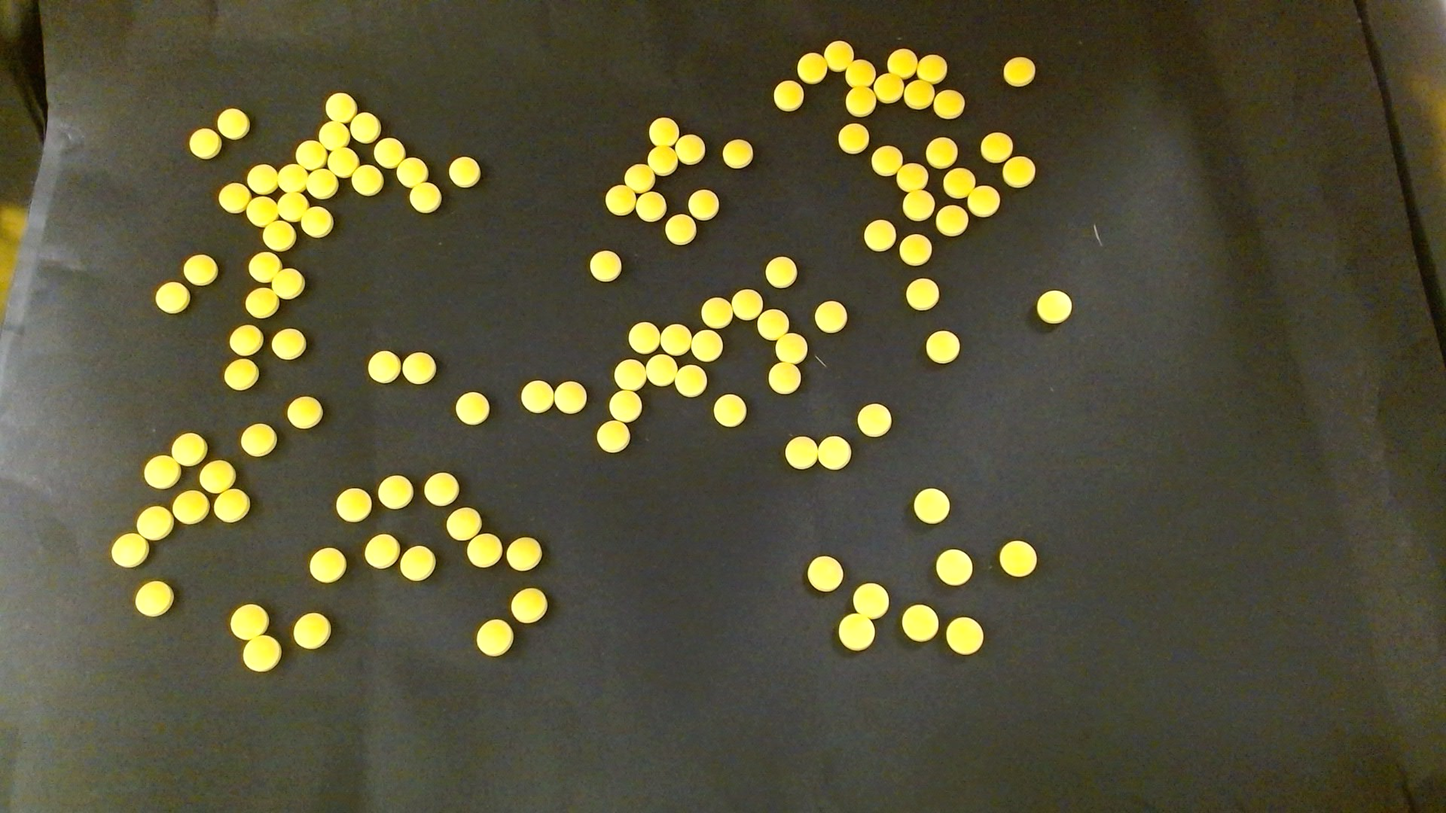Circle: (946, 615, 985, 656), (134, 580, 174, 617), (837, 614, 875, 651), (293, 612, 331, 649), (998, 540, 1036, 577), (901, 604, 938, 641), (230, 603, 268, 639), (475, 620, 512, 656), (243, 635, 280, 671), (936, 549, 972, 586), (111, 533, 148, 569), (310, 547, 346, 583), (853, 582, 888, 619), (135, 506, 172, 541), (511, 588, 547, 623), (807, 556, 842, 592), (913, 487, 949, 522), (1036, 289, 1072, 324), (172, 490, 209, 524), (335, 488, 371, 522), (240, 423, 276, 457), (143, 455, 179, 489), (171, 432, 207, 466), (213, 489, 250, 522), (506, 537, 541, 571), (400, 547, 435, 581), (857, 403, 892, 437), (455, 391, 490, 425), (468, 533, 502, 568), (378, 475, 412, 510), (154, 281, 190, 314), (286, 396, 322, 429), (199, 459, 235, 492), (784, 437, 819, 470), (423, 473, 458, 506), (223, 358, 258, 391), (818, 436, 851, 470), (596, 420, 630, 453), (926, 330, 959, 364), (402, 352, 436, 385), (365, 534, 398, 568), (446, 507, 480, 540), (713, 394, 746, 427), (520, 380, 553, 413), (814, 300, 847, 333), (272, 328, 306, 360), (228, 324, 263, 355), (899, 233, 932, 265), (768, 362, 801, 394), (1003, 155, 1036, 187), (216, 107, 249, 139), (300, 206, 333, 238), (183, 254, 217, 285), (271, 268, 305, 299), (554, 381, 586, 413), (409, 181, 441, 213), (764, 256, 796, 288), (609, 390, 641, 422), (901, 189, 933, 221), (628, 321, 660, 353), (905, 278, 938, 309), (774, 333, 807, 364), (248, 251, 281, 282), (245, 288, 279, 318), (664, 214, 696, 245), (590, 250, 621, 282), (448, 156, 480, 187), (936, 205, 968, 236), (1003, 56, 1035, 87), (614, 358, 645, 390), (262, 219, 294, 250), (277, 190, 309, 221), (396, 157, 429, 187), (368, 351, 399, 382), (863, 220, 894, 251), (837, 122, 868, 153), (845, 85, 876, 116), (701, 297, 732, 328), (218, 182, 249, 213), (349, 112, 380, 143), (296, 139, 327, 170), (306, 167, 337, 198), (189, 129, 221, 159), (351, 163, 383, 193), (757, 309, 789, 339), (773, 80, 803, 111), (981, 132, 1012, 162), (967, 186, 998, 216), (926, 137, 957, 167), (692, 330, 722, 361), (943, 167, 974, 197), (674, 134, 705, 164), (246, 196, 277, 226), (374, 138, 405, 168), (872, 145, 903, 175), (636, 191, 666, 221), (676, 364, 706, 394), (605, 184, 635, 214), (887, 48, 917, 78), (646, 355, 676, 385), (325, 92, 355, 122), (660, 324, 690, 354), (319, 120, 349, 150), (277, 163, 307, 193), (328, 147, 358, 177), (721, 139, 752, 168), (934, 89, 965, 118), (798, 52, 827, 83), (896, 162, 927, 191), (688, 190, 718, 219), (917, 54, 947, 83), (624, 163, 654, 192), (905, 78, 934, 108), (247, 164, 277, 193), (874, 72, 903, 102), (648, 117, 679, 145), (825, 41, 854, 70), (647, 145, 676, 174), (846, 59, 875, 87), (732, 290, 761, 318)
